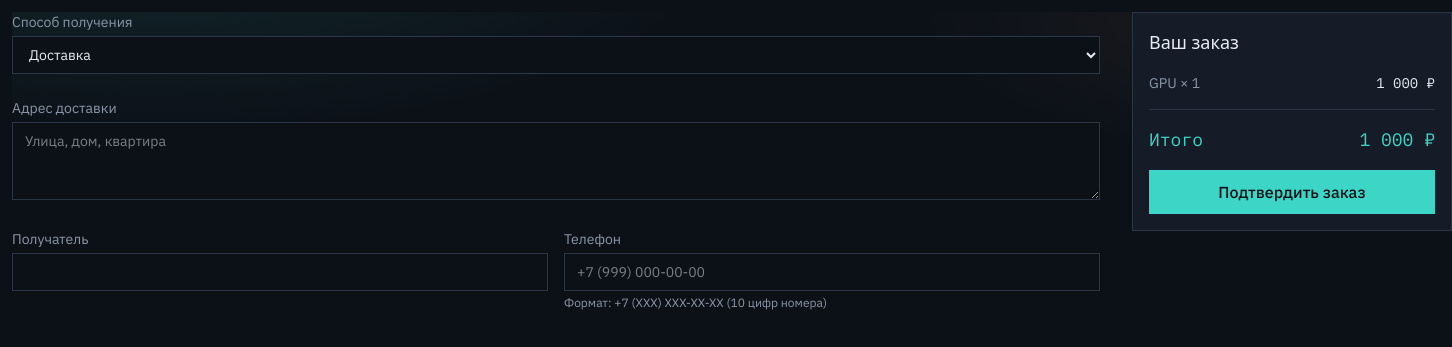
Scenario: CheckoutForm › сбрасывает ошибку поля при вводе текста в это поле
Click the button with test id "checkout-submit" at (1292, 192), box [1149,170,1435,214]
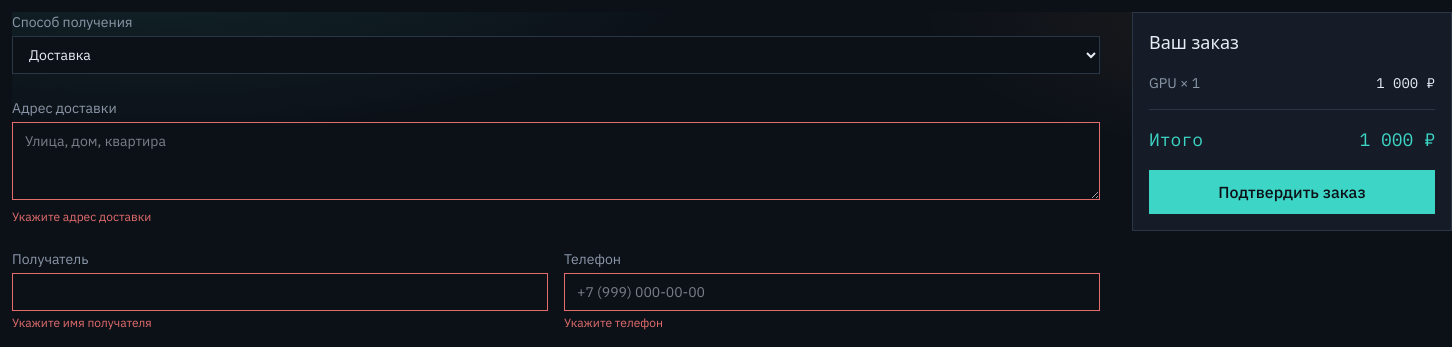
Check: the text "Укажите имя получателя" is shown, box [12,315,152,330]
Type "Иван" into the field with test id "checkout-name" at (280, 292), box [12,273,548,311]
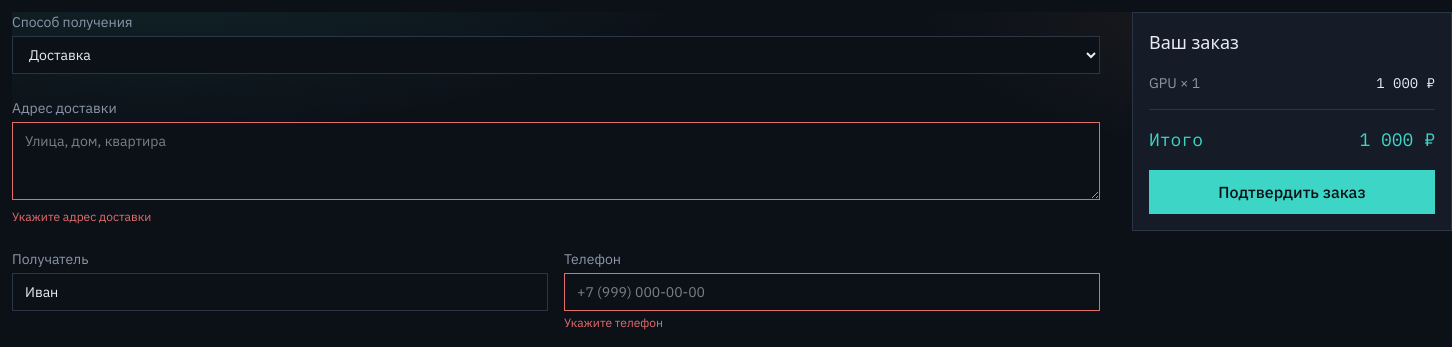
Check: the text "Укажите телефон" is shown, box [564,315,663,330]
Check: the text "Укажите имя получателя" is gone
